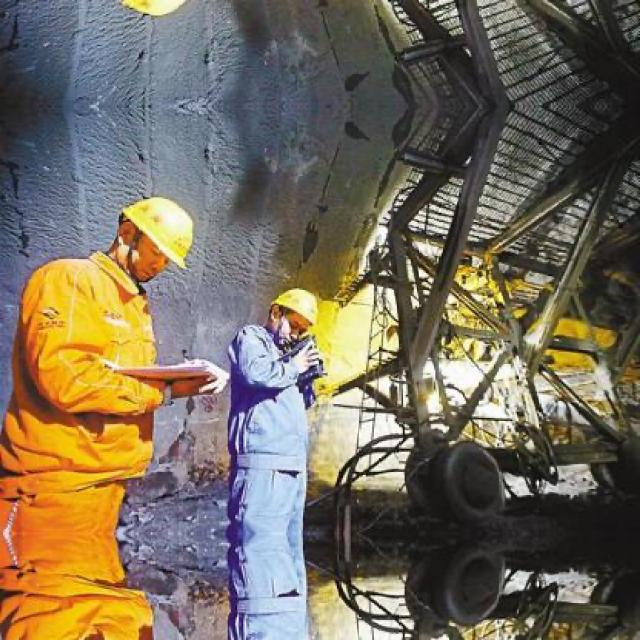con casco: (184, 280, 334, 404), (67, 182, 216, 289)
